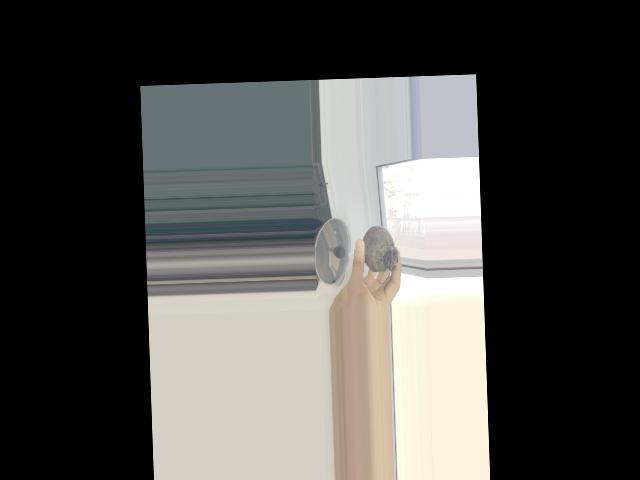beet: (361, 224, 398, 285)
